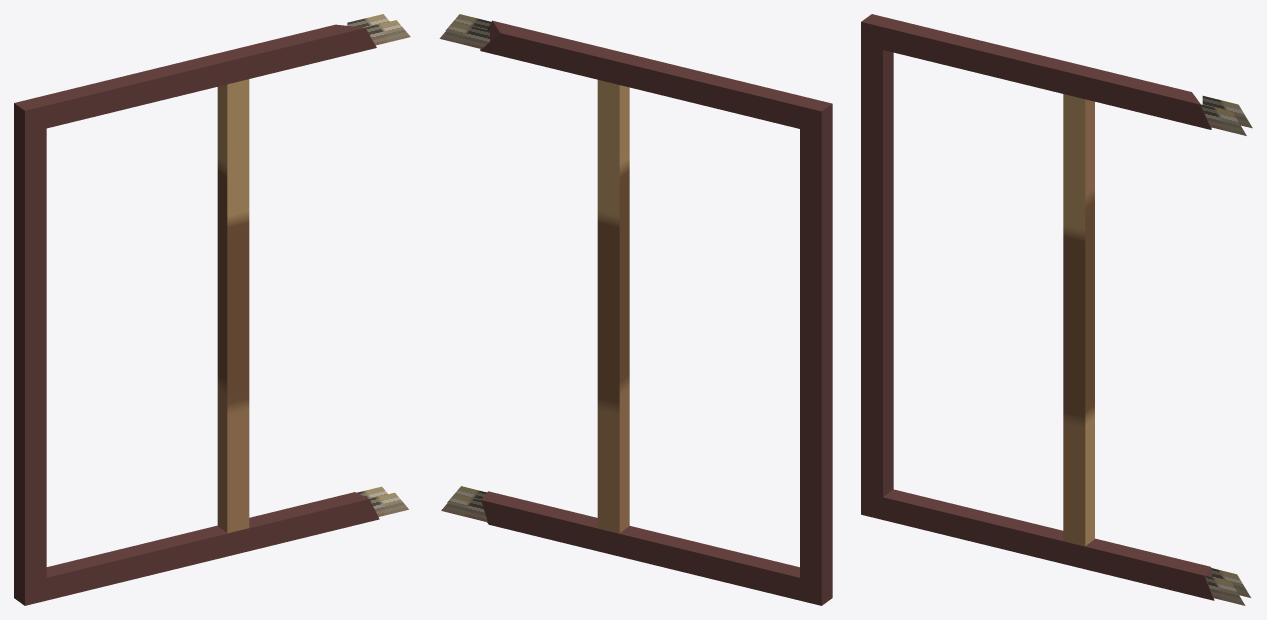
File: DBK_WinWide_Wood_Side.fbx
3 renders of one model, left to right at view 1: azimuth 30°, elevation 25°; view 2: azimuth 150°, elevation 25°; view 3: azimuth 330°, elevation 25°, orthographic.
Visible parts, largest first — view 1: DBK_WinWide_Wood_Side; view 2: DBK_WinWide_Wood_Side; view 3: DBK_WinWide_Wood_Side.
Boxes of the visible parts, left/top/right/bottom form: DBK_WinWide_Wood_Side: left=14, top=14, right=410, bottom=605; DBK_WinWide_Wood_Side: left=439, top=14, right=832, bottom=605; DBK_WinWide_Wood_Side: left=861, top=14, right=1252, bottom=605.
Size of the model in its own units: 98.13 by 120 by 4.75.
